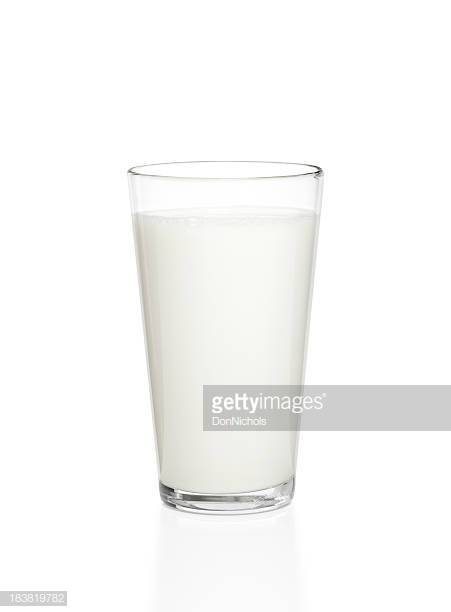glass of milk: (144, 163, 316, 382)
